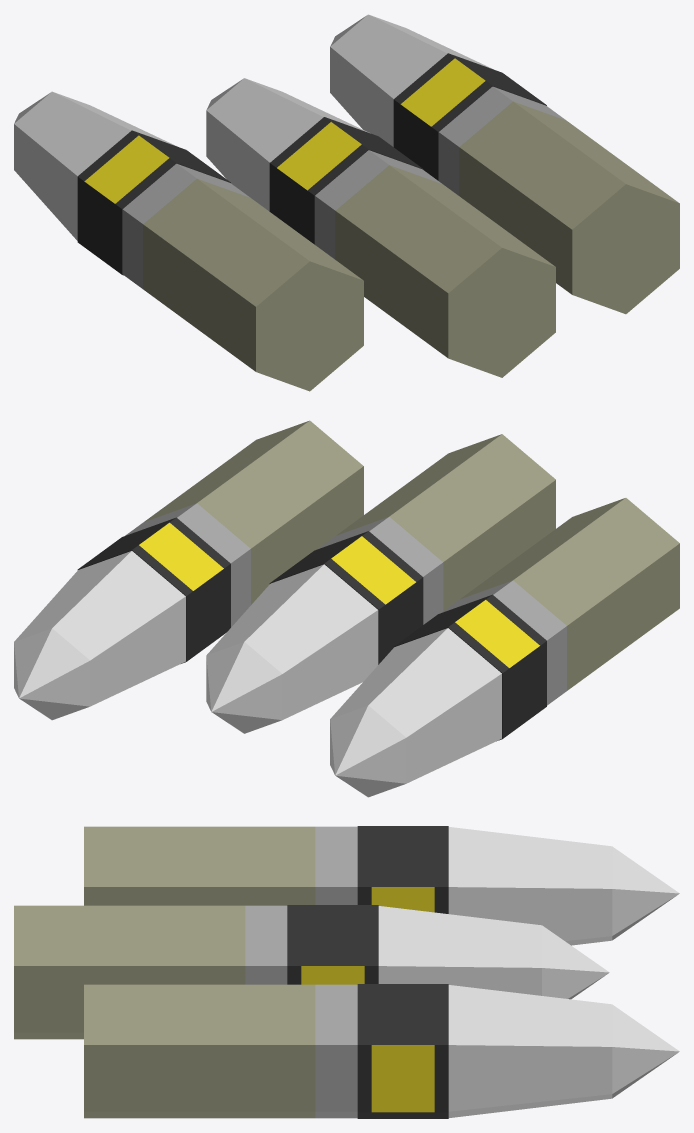
Rendered from ce_ammo_gae_chdemo_std_b.obj.
3 renders of one model, top to bottom at view 1: azimuth 30°, elevation 25°; view 2: azimuth 150°, elevation 25°; view 3: azimuth 270°, elevation 25°, orthographic. The views are drawn at different scales.
Parts seen in each view (by area): view 1: ce_ammo_gae_chdemo_std_b_0, ce_ammo_gae_chdemo_std_b_7, ce_ammo_gae_chdemo_std_b_14, ce_ammo_gae_chdemo_std_b_5, ce_ammo_gae_chdemo_std_b_19, ce_ammo_gae_chdemo_std_b_12, ce_ammo_gae_chdemo_std_b_3, ce_ammo_gae_chdemo_std_b_10, ce_ammo_gae_chdemo_std_b_17, ce_ammo_gae_chdemo_std_b_1, ce_ammo_gae_chdemo_std_b_15, ce_ammo_gae_chdemo_std_b_8 (+6 smaller); view 2: ce_ammo_gae_chdemo_std_b_0, ce_ammo_gae_chdemo_std_b_14, ce_ammo_gae_chdemo_std_b_7, ce_ammo_gae_chdemo_std_b_19, ce_ammo_gae_chdemo_std_b_5, ce_ammo_gae_chdemo_std_b_12, ce_ammo_gae_chdemo_std_b_6, ce_ammo_gae_chdemo_std_b_20, ce_ammo_gae_chdemo_std_b_13, ce_ammo_gae_chdemo_std_b_3, ce_ammo_gae_chdemo_std_b_17, ce_ammo_gae_chdemo_std_b_10 (+9 smaller); view 3: ce_ammo_gae_chdemo_std_b_14, ce_ammo_gae_chdemo_std_b_7, ce_ammo_gae_chdemo_std_b_19, ce_ammo_gae_chdemo_std_b_0, ce_ammo_gae_chdemo_std_b_5, ce_ammo_gae_chdemo_std_b_12, ce_ammo_gae_chdemo_std_b_17, ce_ammo_gae_chdemo_std_b_15, ce_ammo_gae_chdemo_std_b_3, ce_ammo_gae_chdemo_std_b_10, ce_ammo_gae_chdemo_std_b_8, ce_ammo_gae_chdemo_std_b_1 (+9 smaller).
Part boxes in pixels (x1=…): ce_ammo_gae_chdemo_std_b_0: x1=143, y1=178, x2=363, y2=391; ce_ammo_gae_chdemo_std_b_7: x1=335, y1=165, x2=555, y2=377; ce_ammo_gae_chdemo_std_b_14: x1=459, y1=101, x2=679, y2=314; ce_ammo_gae_chdemo_std_b_5: x1=14, y1=91, x2=177, y2=240; ce_ammo_gae_chdemo_std_b_19: x1=330, y1=14, x2=493, y2=146; ce_ammo_gae_chdemo_std_b_12: x1=206, y1=78, x2=370, y2=211; ce_ammo_gae_chdemo_std_b_3: x1=84, y1=135, x2=222, y2=269; ce_ammo_gae_chdemo_std_b_10: x1=276, y1=122, x2=415, y2=238; ce_ammo_gae_chdemo_std_b_17: x1=400, y1=58, x2=539, y2=175; ce_ammo_gae_chdemo_std_b_1: x1=122, y1=163, x2=250, y2=288; ce_ammo_gae_chdemo_std_b_15: x1=438, y1=86, x2=566, y2=195; ce_ammo_gae_chdemo_std_b_8: x1=315, y1=150, x2=441, y2=259; ce_ammo_gae_chdemo_std_b_0: x1=460, y1=498, x2=679, y2=690; ce_ammo_gae_chdemo_std_b_14: x1=144, y1=420, x2=363, y2=604; ce_ammo_gae_chdemo_std_b_7: x1=336, y1=434, x2=555, y2=610; ce_ammo_gae_chdemo_std_b_19: x1=14, y1=551, x2=185, y2=706; ce_ammo_gae_chdemo_std_b_5: x1=330, y1=628, x2=501, y2=783; ce_ammo_gae_chdemo_std_b_12: x1=207, y1=564, x2=378, y2=719; ce_ammo_gae_chdemo_std_b_6: x1=330, y1=705, x2=406, y2=797; ce_ammo_gae_chdemo_std_b_20: x1=14, y1=628, x2=90, y2=720; ce_ammo_gae_chdemo_std_b_13: x1=206, y1=642, x2=282, y2=733; ce_ammo_gae_chdemo_std_b_3: x1=401, y1=599, x2=540, y2=733; ce_ammo_gae_chdemo_std_b_17: x1=85, y1=522, x2=223, y2=656; ce_ammo_gae_chdemo_std_b_10: x1=277, y1=536, x2=416, y2=656; ce_ammo_gae_chdemo_std_b_14: x1=84, y1=984, x2=315, y2=1118; ce_ammo_gae_chdemo_std_b_7: x1=14, y1=905, x2=245, y2=1039; ce_ammo_gae_chdemo_std_b_19: x1=448, y1=985, x2=612, y2=1117; ce_ammo_gae_chdemo_std_b_0: x1=84, y1=826, x2=315, y2=905; ce_ammo_gae_chdemo_std_b_5: x1=448, y1=827, x2=612, y2=945; ce_ammo_gae_chdemo_std_b_12: x1=378, y1=906, x2=541, y2=995; ce_ammo_gae_chdemo_std_b_17: x1=371, y1=984, x2=434, y2=1118; ce_ammo_gae_chdemo_std_b_15: x1=315, y1=984, x2=357, y2=1118; ce_ammo_gae_chdemo_std_b_3: x1=371, y1=826, x2=434, y2=912; ce_ammo_gae_chdemo_std_b_10: x1=301, y1=905, x2=364, y2=984; ce_ammo_gae_chdemo_std_b_8: x1=245, y1=905, x2=287, y2=984; ce_ammo_gae_chdemo_std_b_1: x1=315, y1=826, x2=357, y2=904.
Bounding box in the file's own units: 0.6454 × 0.1909 × 0.855.
